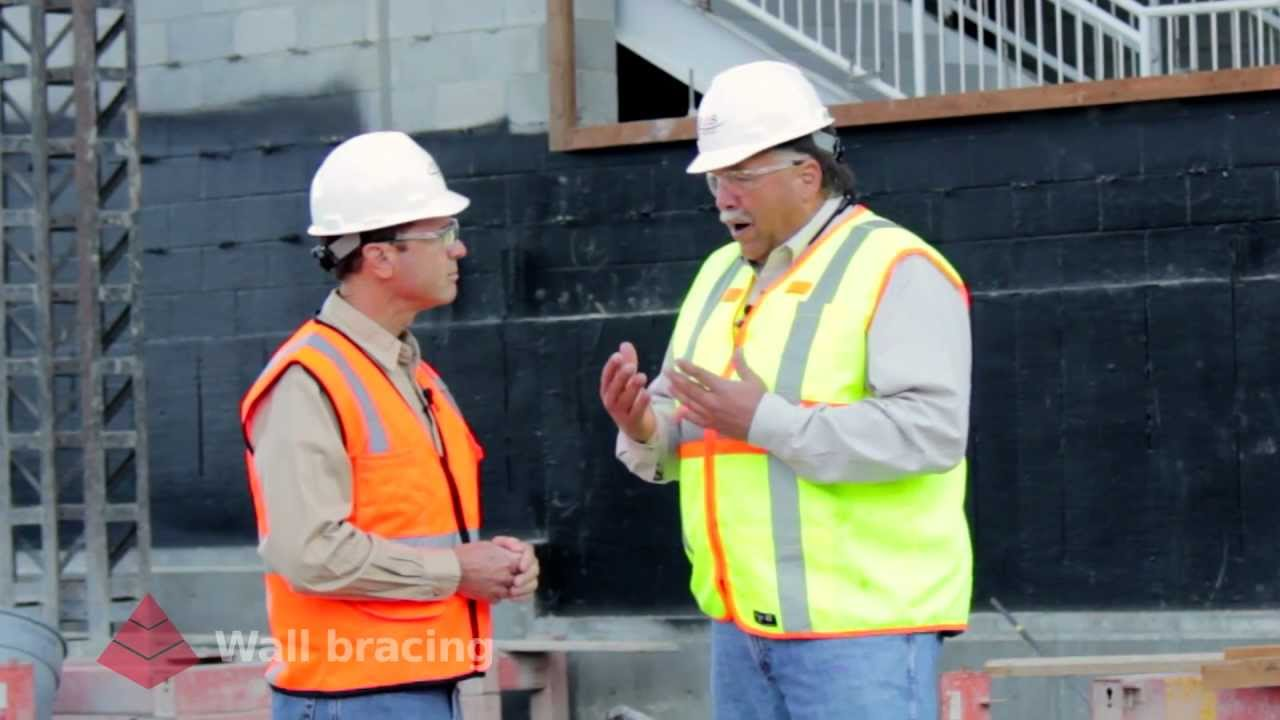Helmet: (294, 123, 499, 350), (669, 58, 842, 278)
Reflective vest: (656, 205, 989, 647), (234, 315, 500, 697)
